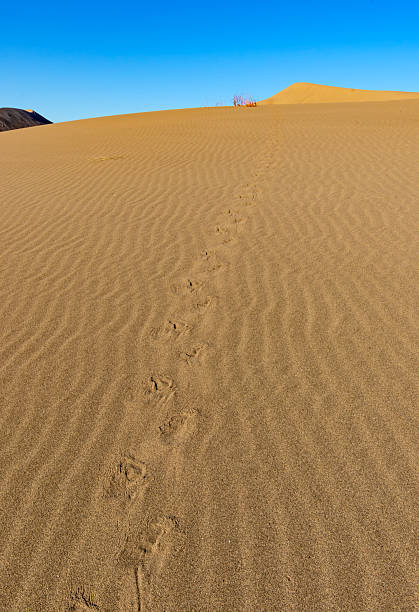animal_footprint: (119, 516, 180, 611), (106, 453, 147, 500), (159, 410, 196, 443), (144, 375, 175, 403), (151, 318, 190, 339), (68, 588, 100, 611), (180, 343, 208, 365), (171, 278, 203, 295), (201, 249, 224, 271), (193, 296, 215, 315), (92, 154, 124, 161)
